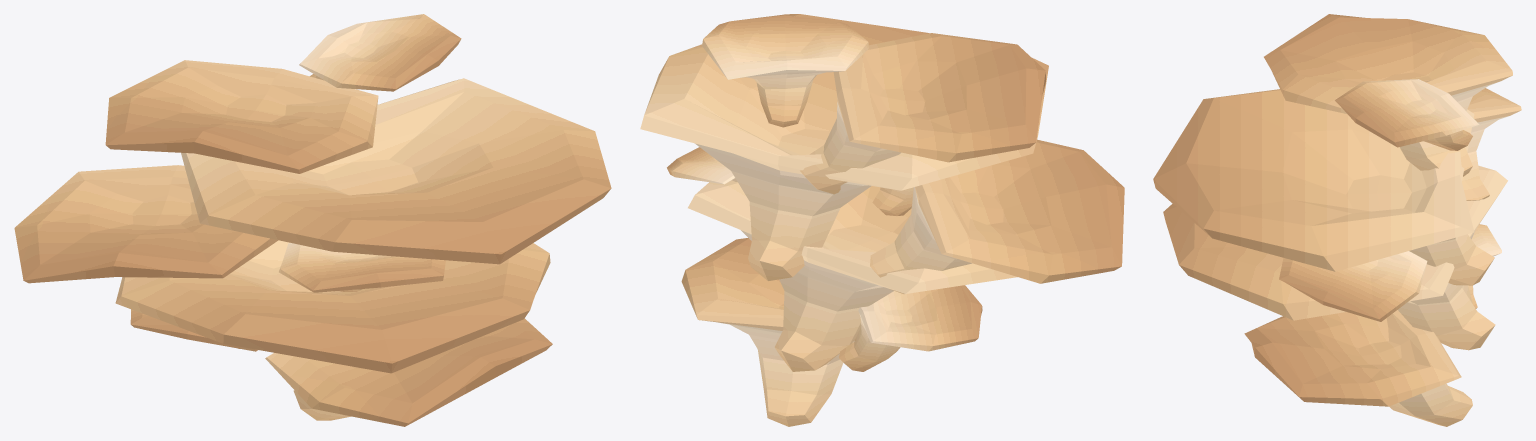
Rendered from Oyster_Bunch.glb.
3 renders of one model, left to right at view 1: azimuth 30°, elevation 25°; view 2: azimuth 150°, elevation 25°; view 3: azimuth 270°, elevation 25°, orthographic. The views are drawn at different scales.
Visible parts, largest first — view 1: Cube.008; view 2: Cube.008; view 3: Cube.008.
Boxes of the visible parts, x1,y1,x2,y2 form: Cube.008: (14, 14, 611, 426); Cube.008: (640, 14, 1124, 426); Cube.008: (1153, 14, 1521, 426).
Size of the model in its own units: 14.71 by 10.27 by 10.21.
Materials: 1 (1 with a texture image).
